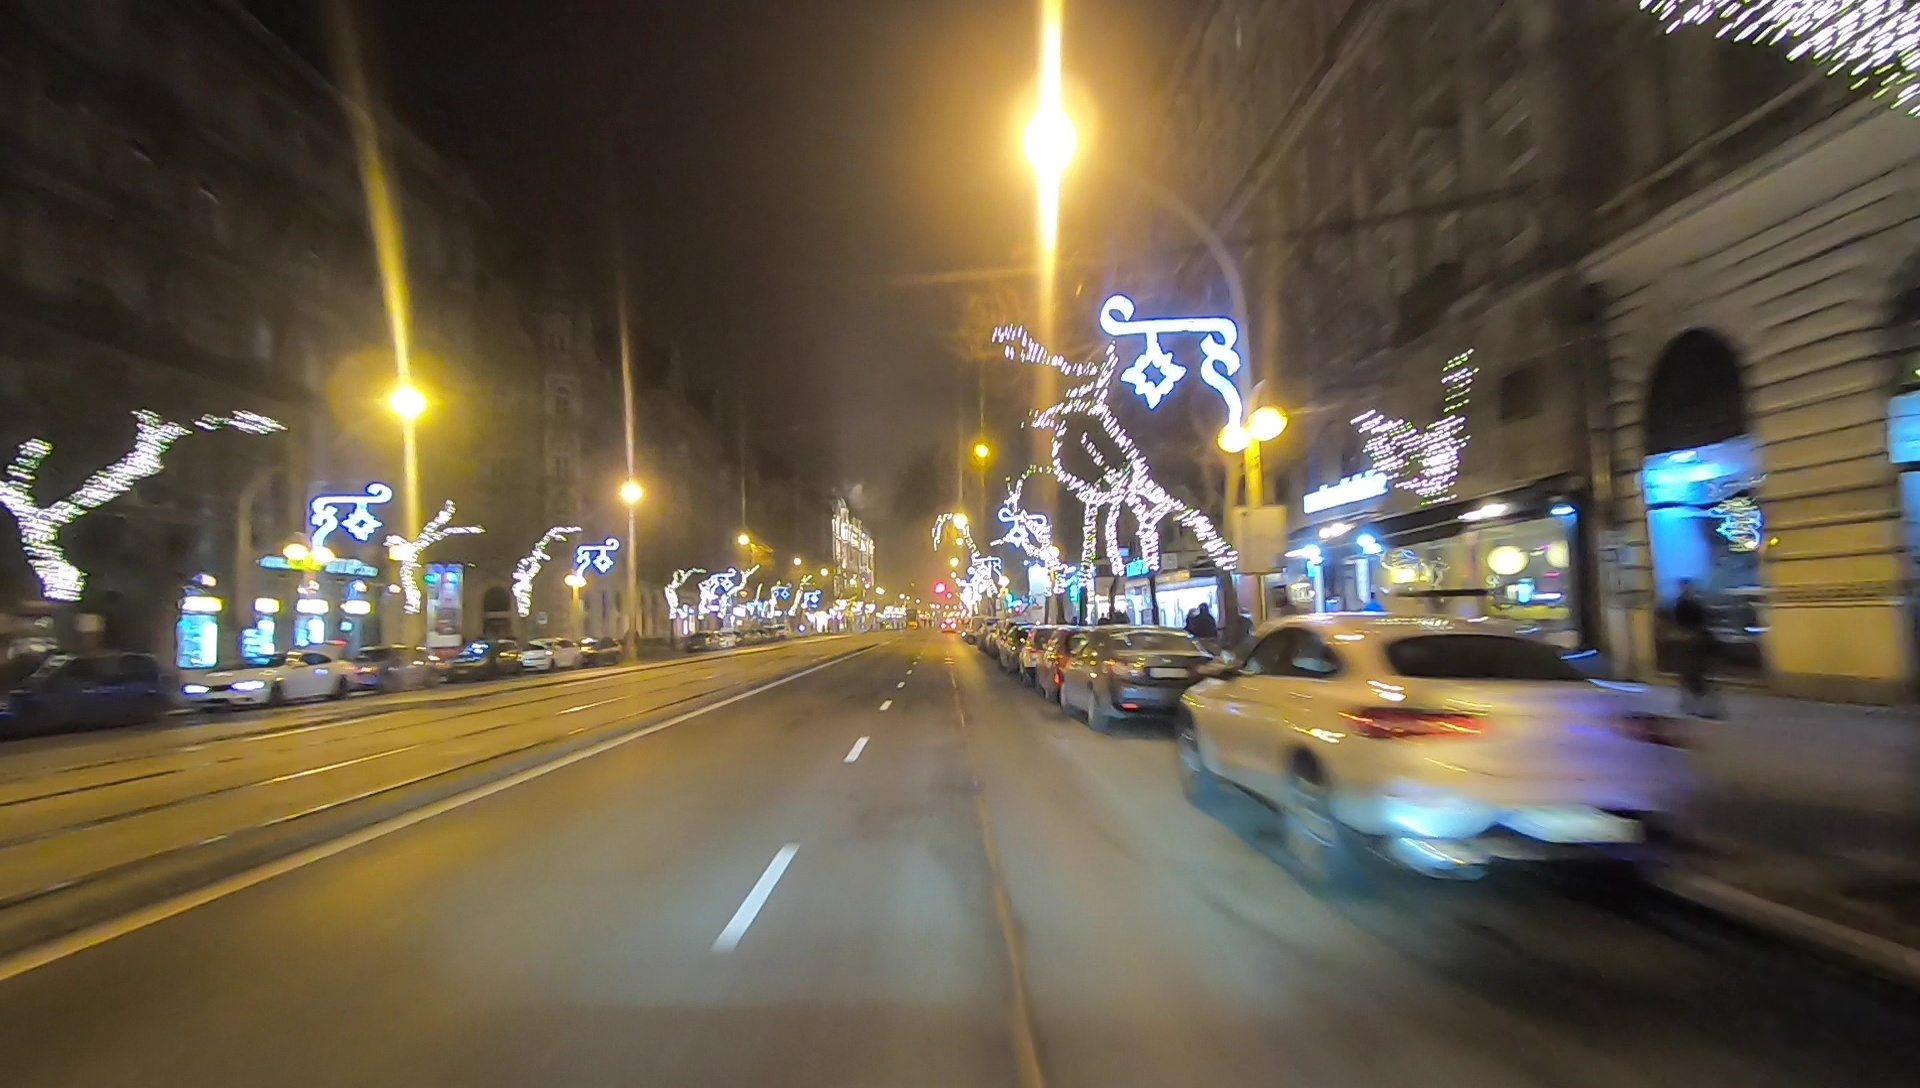person: (1665, 578, 1732, 723), (1182, 600, 1221, 680)
